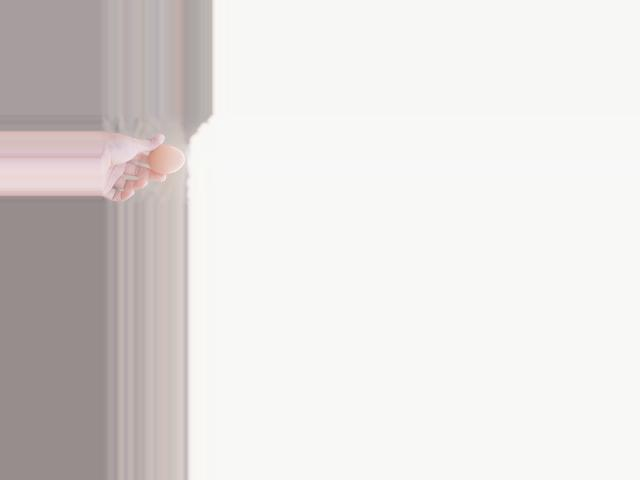egg: (148, 145, 184, 174)
